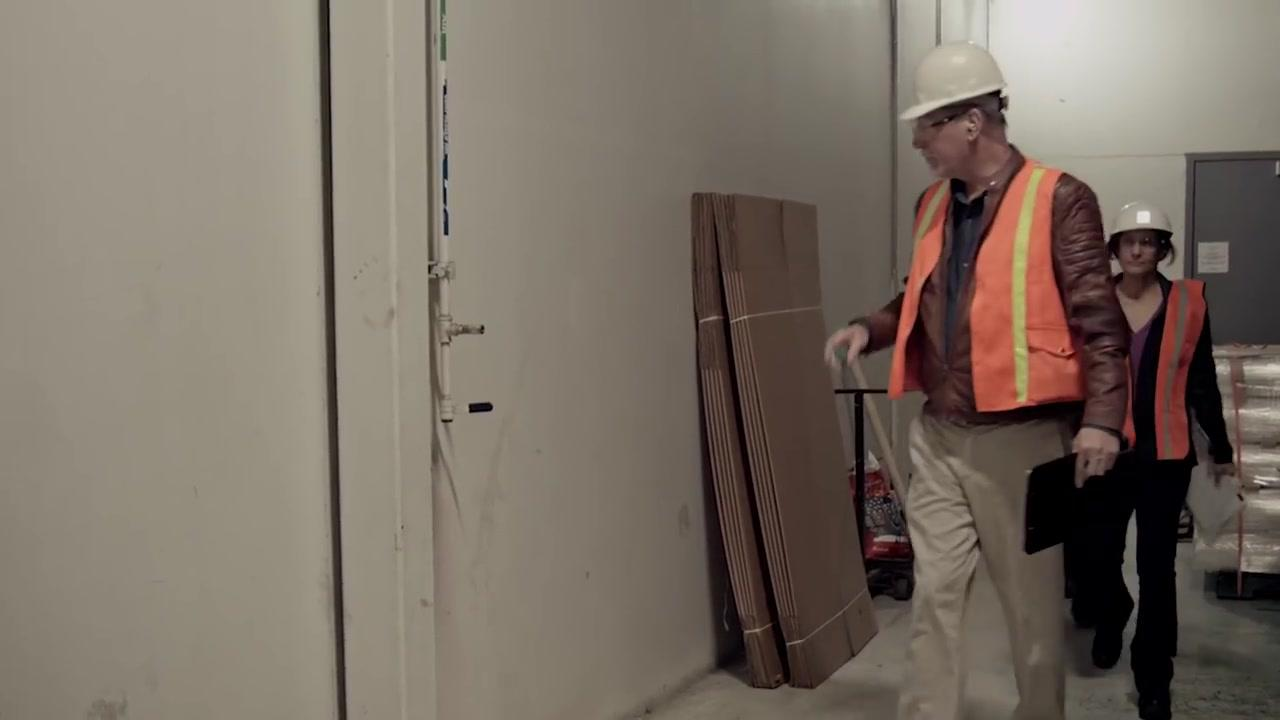Hi-Vis Jacket: (890, 184, 1072, 412), (1109, 289, 1214, 464)
